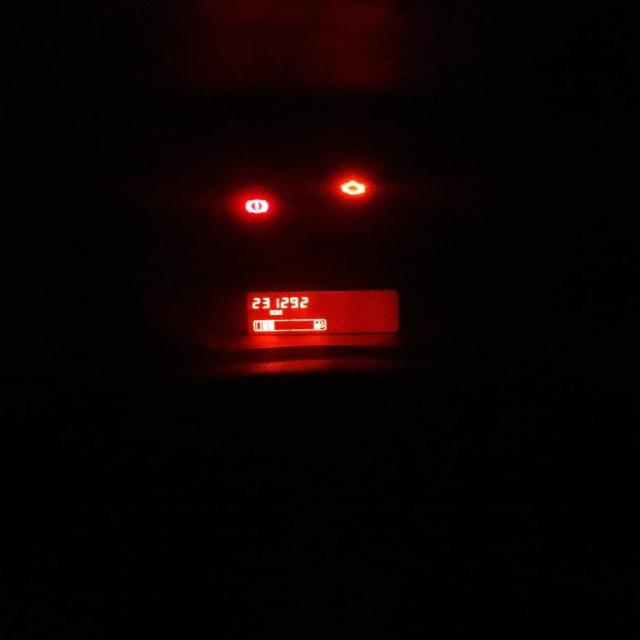odometer: (242, 287, 404, 337)
